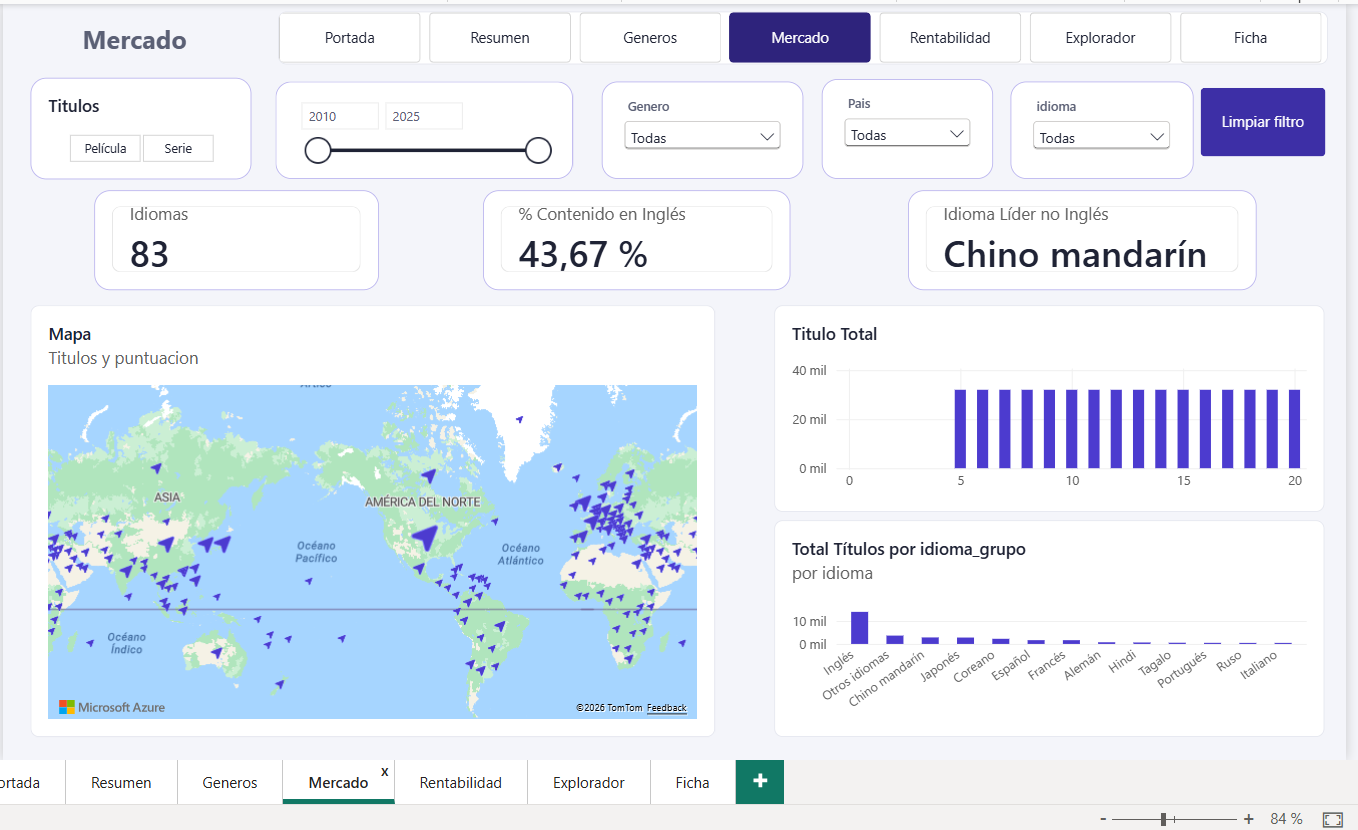

Layout of this report page (visuals, bound fields, positions):
{"tool":"powerbi","page":{"name":"Mercado","canvas":[1280,720],"ordinal":3},"visuals":[{"type":"textbox","box":[10,0,238.3,63.3],"z":0},{"type":"actionButton","box":[1140,80,119.1,65.5],"z":1000},{"type":"pageNavigator","box":[262,7,1000,50],"z":2000},{"type":"slicer","fields":{"Values":["dim_idioma.idioma"]},"box":[959,74,174,93],"z":3000},{"type":"slicer","fields":{"Values":["dim_pais.pais_nombre"]},"box":[780,72,163,95],"z":4000},{"type":"slicer","fields":{"Values":["dim_genero.genero_agrupado"]},"box":[570,74,192,93],"z":5000},{"type":"slicer","fields":{"Values":["fact_contenidos.release_year"]},"box":[259,74,283,93],"z":6000},{"type":"cardVisual","fields":{"Data":["_Medidas.Idiomas"]},"box":[87,177,271,95],"z":7000},{"type":"cardVisual","fields":{"Data":["_Medidas.% Contenido en Inglés"]},"box":[457,177,293,95],"z":8000},{"type":"cardVisual","fields":{"Data":["_Medidas.Idioma Líder no Inglés"]},"box":[862,177,332,95],"z":9000},{"type":"slicer","title":"Titulos","fields":{"Values":["fact_contenidos.tipo_es"]},"box":[26,70,210,97],"z":10000},{"type":"azureMap","title":"Mapa ","fields":{"Category":["dim_pais.pais_nombre"],"Size":["_Medidas.Total Títulos"]},"box":[26,287,652,411],"z":11000},{"type":"clusteredColumnChart","title":"Titulo Total","fields":{"Category":["Top N.Top N"],"Y":["_Medidas.Total Títulos"]},"box":[735,287,524,197],"z":12000},{"type":"clusteredColumnChart","fields":{"Category":["dim_idioma.idioma_grupo"],"Y":["_Medidas.Total Títulos"]},"box":[735,492,524,206],"z":13000}]}

Visuals, with their boxes on the page's 1280x720 design canvas (x1, y1, x2, y2). These are canvas units, not pixel positions in the 1358x830 screenshot, which may show the page scaled, cropped or inside an application window:
textbox: left=10, top=0, right=248, bottom=63
actionButton: left=1140, top=80, right=1259, bottom=146
pageNavigator: left=262, top=7, right=1262, bottom=57
slicer - dim_idioma.idioma: left=959, top=74, right=1133, bottom=167
slicer - dim_pais.pais_nombre: left=780, top=72, right=943, bottom=167
slicer - dim_genero.genero_agrupado: left=570, top=74, right=762, bottom=167
slicer - fact_contenidos.release_year: left=259, top=74, right=542, bottom=167
cardVisual - _Medidas.Idiomas: left=87, top=177, right=358, bottom=272
cardVisual - _Medidas.% Contenido en Inglés: left=457, top=177, right=750, bottom=272
cardVisual - _Medidas.Idioma Líder no Inglés: left=862, top=177, right=1194, bottom=272
"Titulos" slicer: left=26, top=70, right=236, bottom=167
"Mapa " azureMap: left=26, top=287, right=678, bottom=698
"Titulo Total" clusteredColumnChart: left=735, top=287, right=1259, bottom=484
clusteredColumnChart - dim_idioma.idioma_grupo x _Medidas.Total Títulos: left=735, top=492, right=1259, bottom=698
